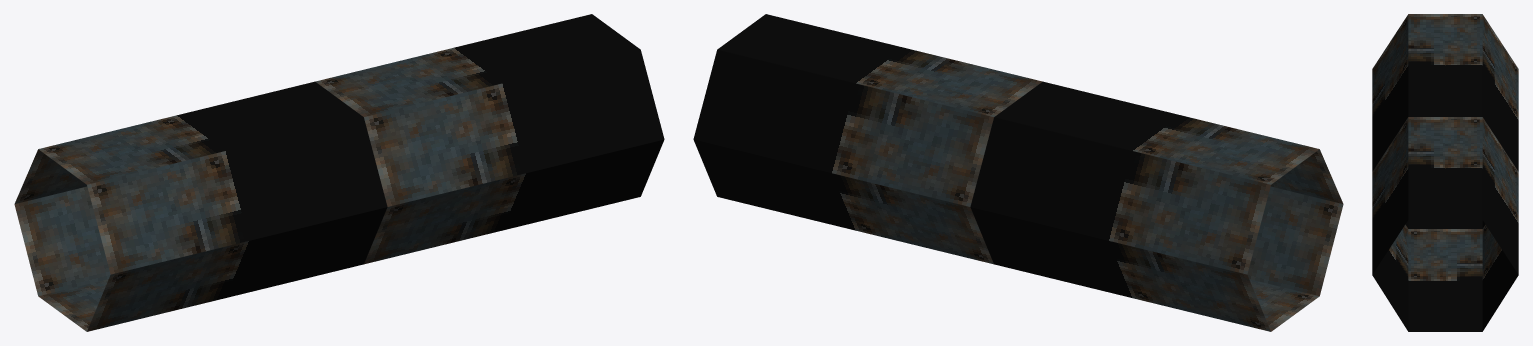
3 renders of one model, left to right at view 1: azimuth 30°, elevation 25°; view 2: azimuth 150°, elevation 25°; view 3: azimuth 270°, elevation 25°, orthographic. The views are drawn at different scales.
Parts seen in each view (by area): view 1: prim199-pipe06; view 2: prim199-pipe06; view 3: prim199-pipe06.
Part boxes in pixels (x1,y1,x2,y2): prim199-pipe06: (14,14,664,331); prim199-pipe06: (693,14,1343,331); prim199-pipe06: (1372,14,1518,331).
Size of the model in its own units: 256 by 65 by 77.
Materials: 1 (1 with a texture image).
